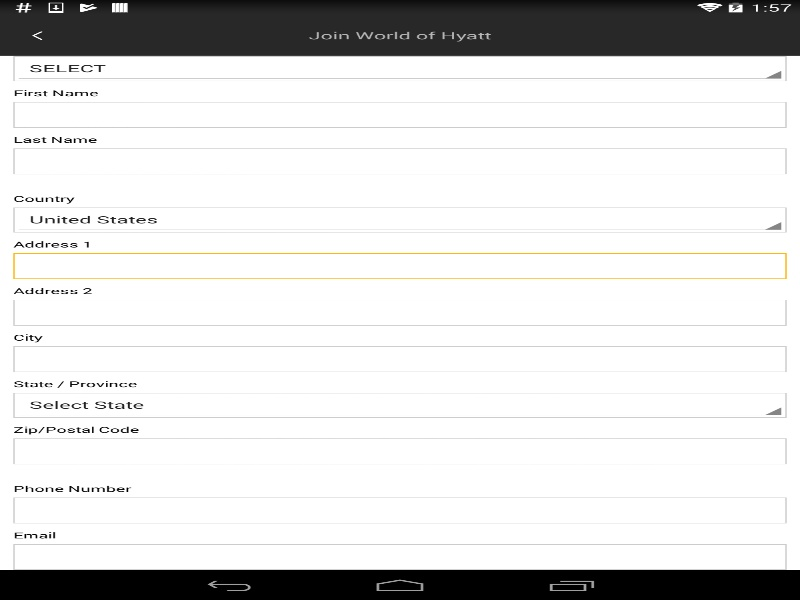Button: (0, 15, 74, 55)
Input: (13, 101, 786, 127), (13, 148, 786, 174), (13, 253, 786, 279), (13, 299, 786, 325), (13, 346, 786, 372), (13, 438, 786, 464), (13, 497, 786, 523), (13, 544, 786, 570)
